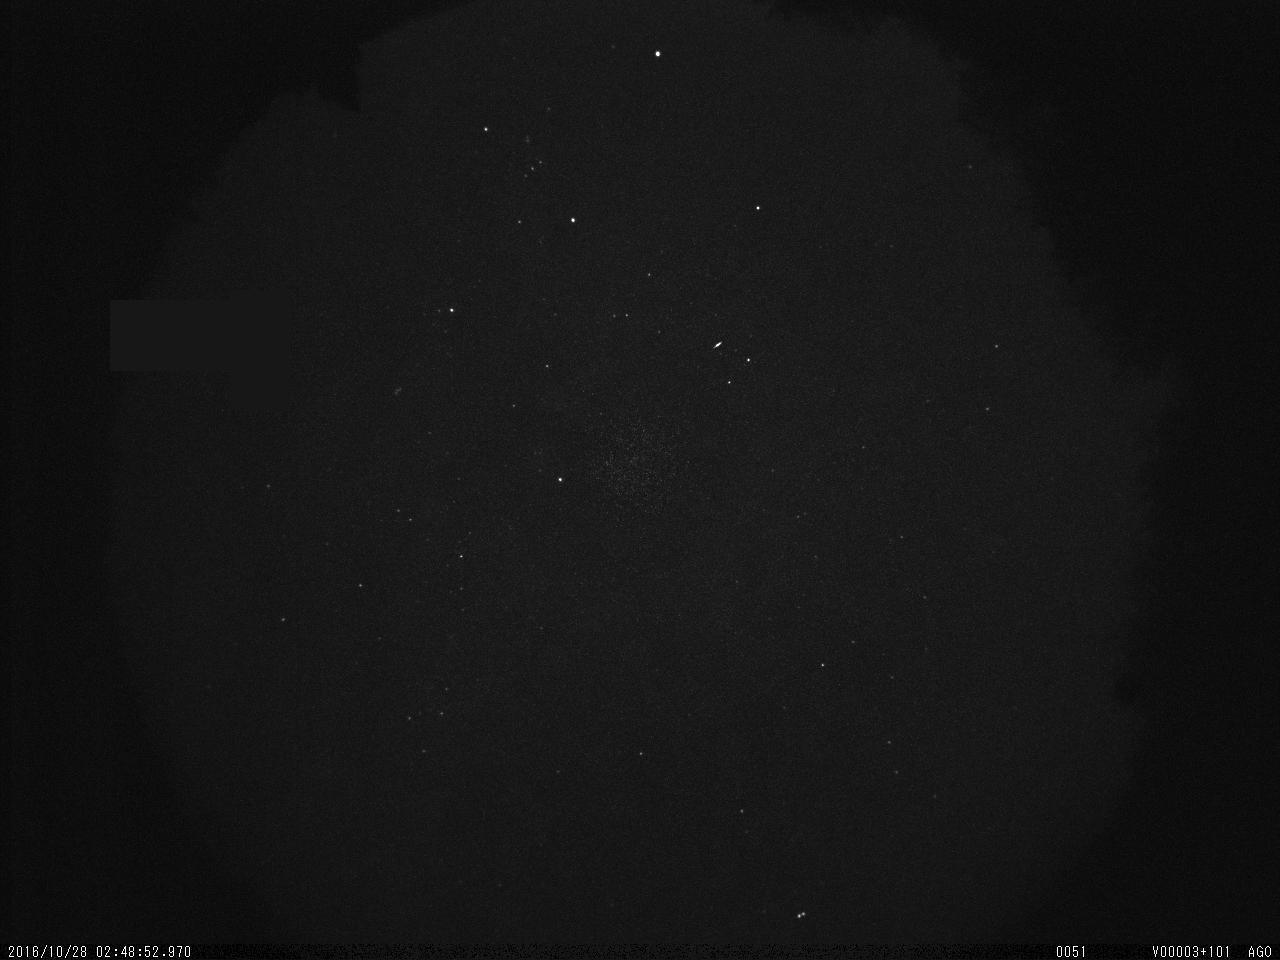meteor: (709, 333, 726, 360)
